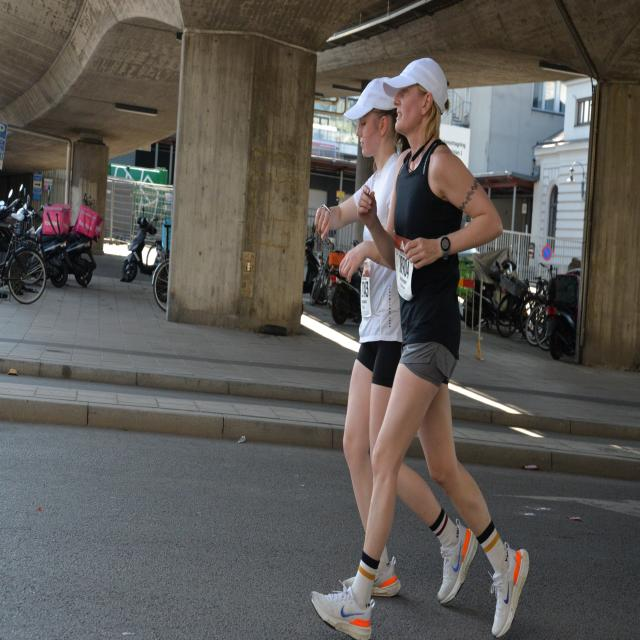runner-detect: (366, 58, 521, 634), (324, 69, 462, 609)
